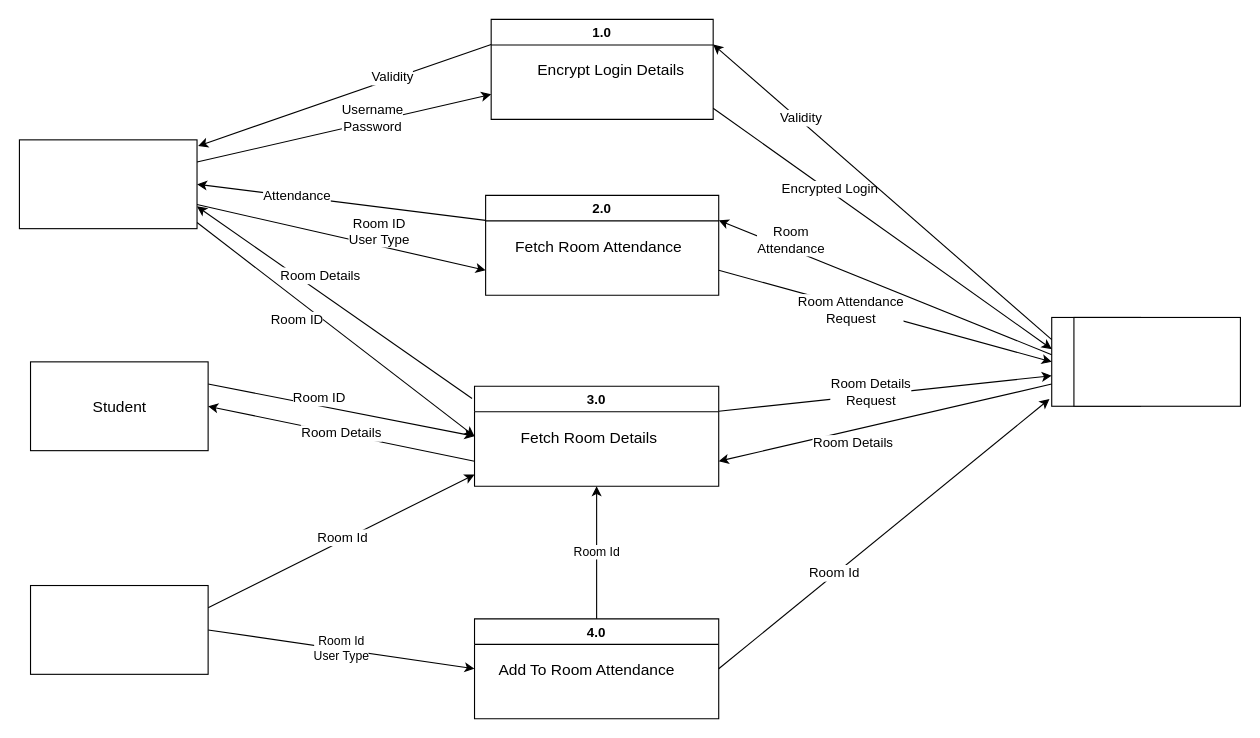
The diagram is 1260 pixels wide and 738 high, and some of its shapes have lost their labels. The shapes that lost their labels are listed below. From the top down, each one's box as (x1, y1, x2, y2) in pixels, then its label:
(18, 139, 197, 229): Lecturer
(1073, 316, 1240, 406): Server
(29, 584, 208, 674): NFC Scan
